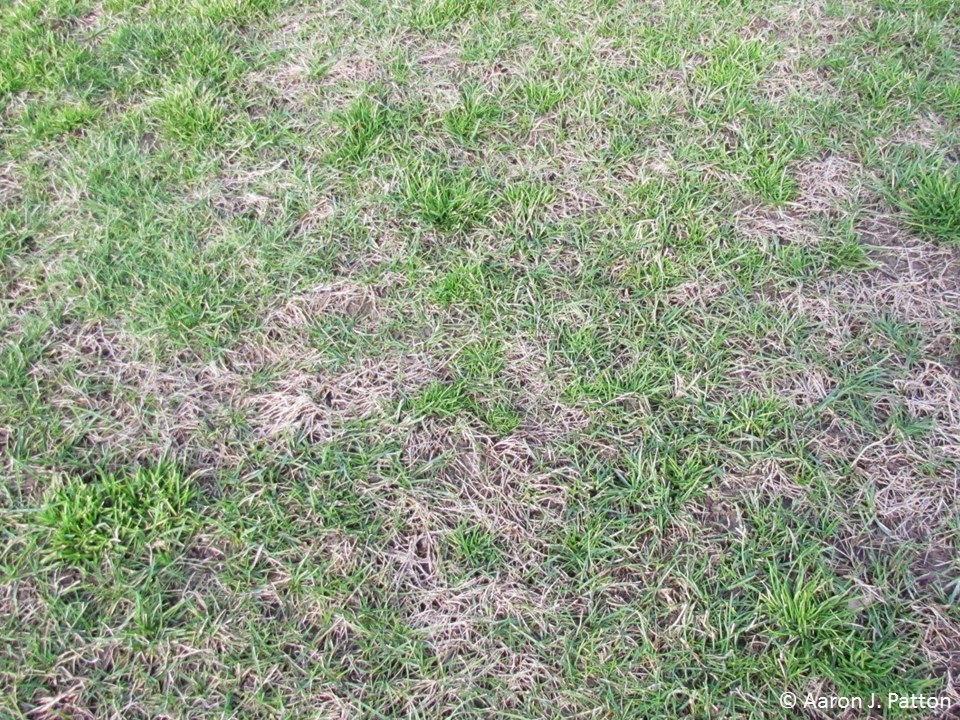crabgrass: (739, 554, 888, 688), (42, 454, 197, 560), (126, 64, 258, 143), (629, 449, 727, 541), (395, 149, 490, 242), (881, 174, 960, 240), (783, 209, 864, 273), (337, 93, 400, 141), (422, 379, 458, 417)
